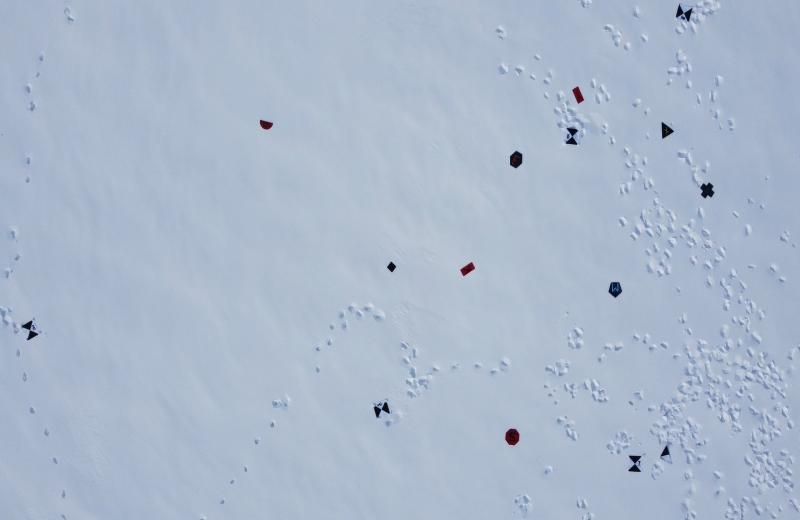Cross: (699, 182, 715, 201)
Hexagon: (508, 150, 524, 169)
Octagon: (504, 426, 522, 446)
Pentagon: (607, 280, 622, 299)
Rectangle: (572, 86, 585, 106), (460, 262, 476, 276)
Semi Circle: (258, 118, 273, 132)
Square: (386, 260, 398, 273)
Triangle: (660, 121, 676, 140)
